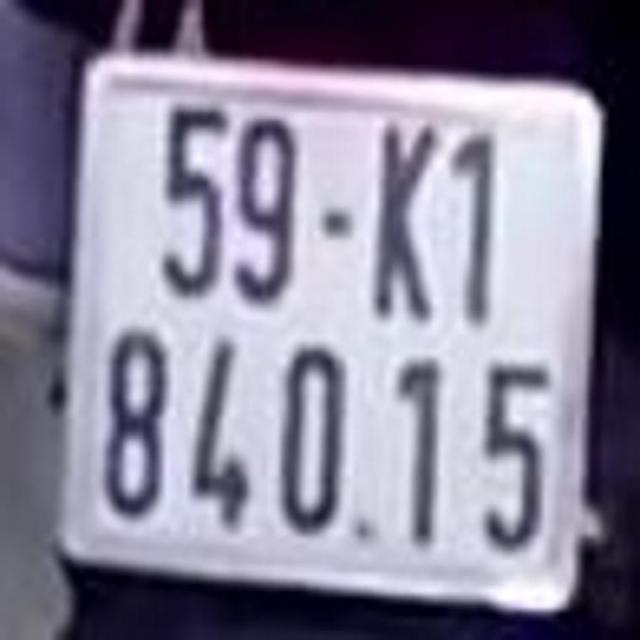0: (275, 353, 345, 537)
1: (392, 354, 450, 546), (449, 130, 492, 325)
4: (194, 337, 244, 529)
5: (159, 98, 227, 297), (480, 360, 547, 561)
8: (103, 323, 172, 519)
9: (234, 113, 295, 305)
K: (368, 120, 436, 314)
